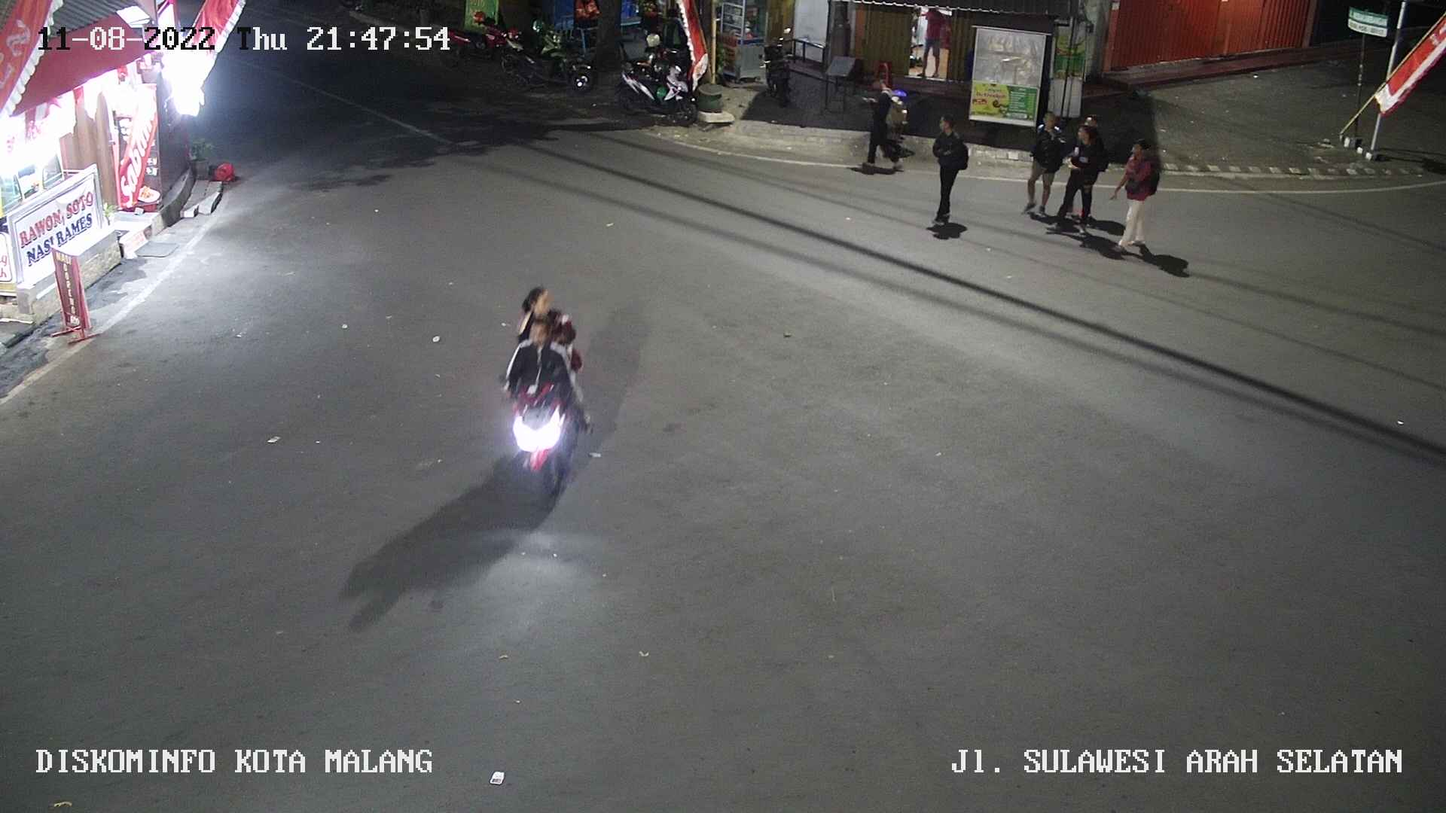without_helmet: (497, 285, 597, 497)
